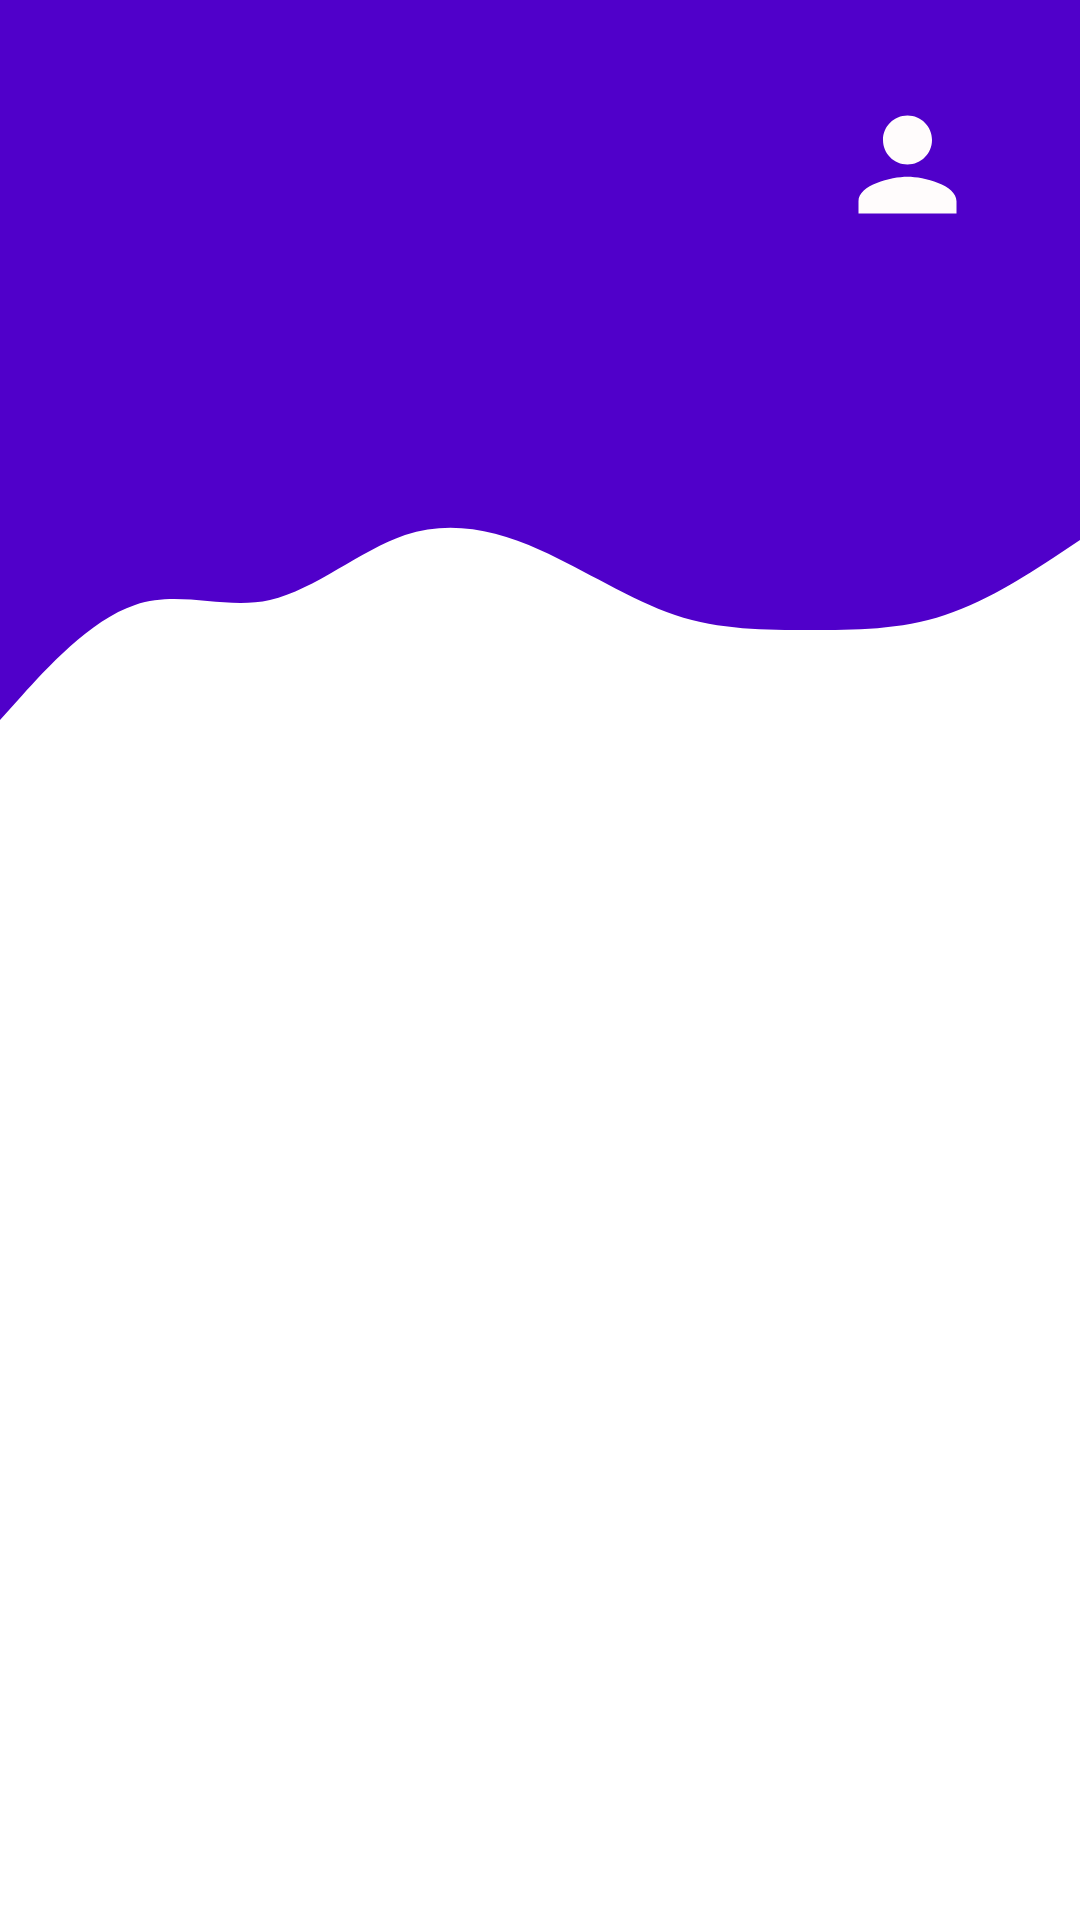

Screen size 1080px x 1920px. Icon name, then its box in pixels as detection(x1, y1, x2, y2):
person: detection(858, 115, 957, 214)
